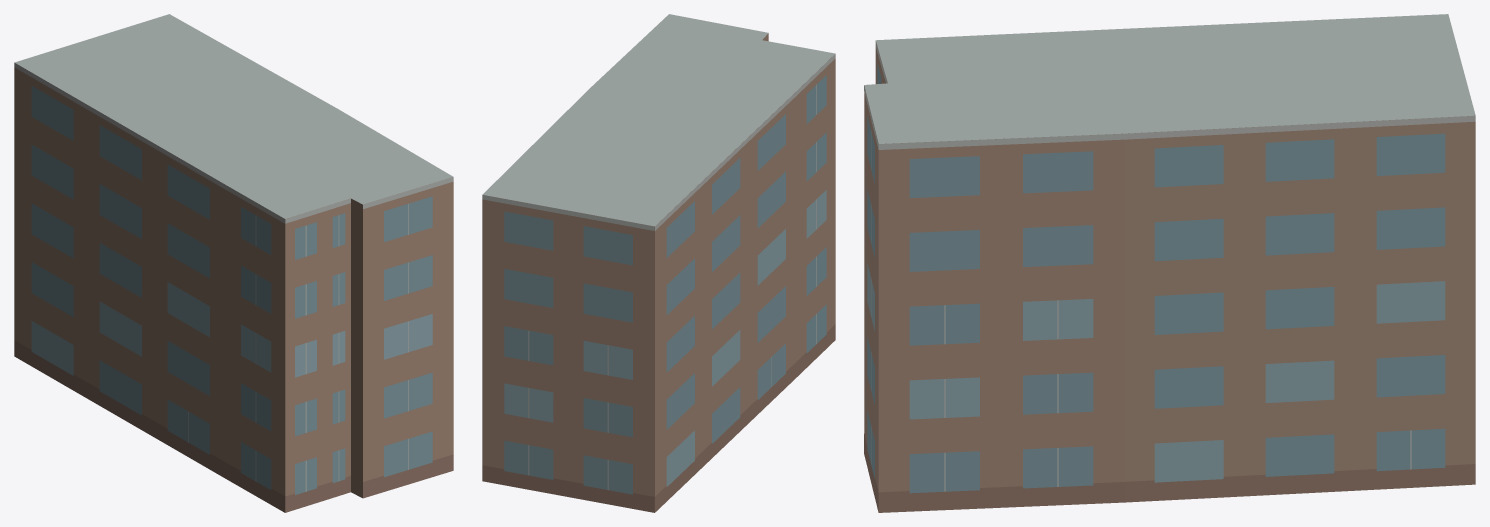
File: survey-upis-33024954.glb
3 renders of one model, left to right at view 1: azimuth 30°, elevation 25°; view 2: azimuth 150°, elevation 25°; view 3: azimuth 270°, elevation 25°, orthographic. The views are drawn at different scales.
Visible parts, largest first — view 1: survey-upis-33024954.tmp; view 2: survey-upis-33024954.tmp; view 3: survey-upis-33024954.tmp.
Boxes of the visible parts, bbox=[...] form: survey-upis-33024954.tmp: bbox=[14, 14, 453, 512]; survey-upis-33024954.tmp: bbox=[482, 14, 835, 512]; survey-upis-33024954.tmp: bbox=[864, 14, 1475, 512].
Bounding box in the file's own units: 11.35 × 15 × 22.55.
